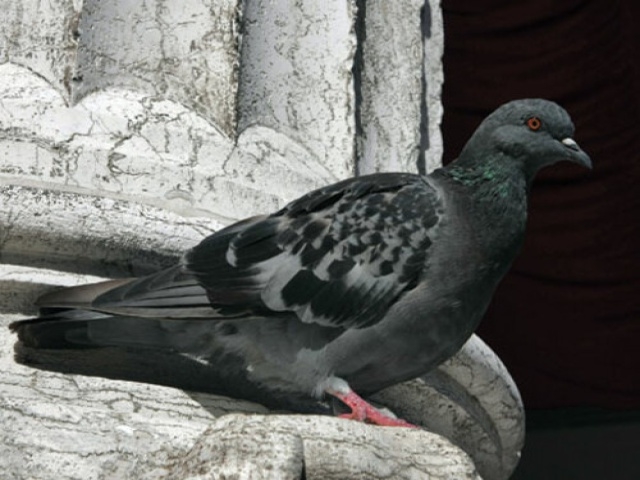Pigeon: (12, 93, 602, 438)
